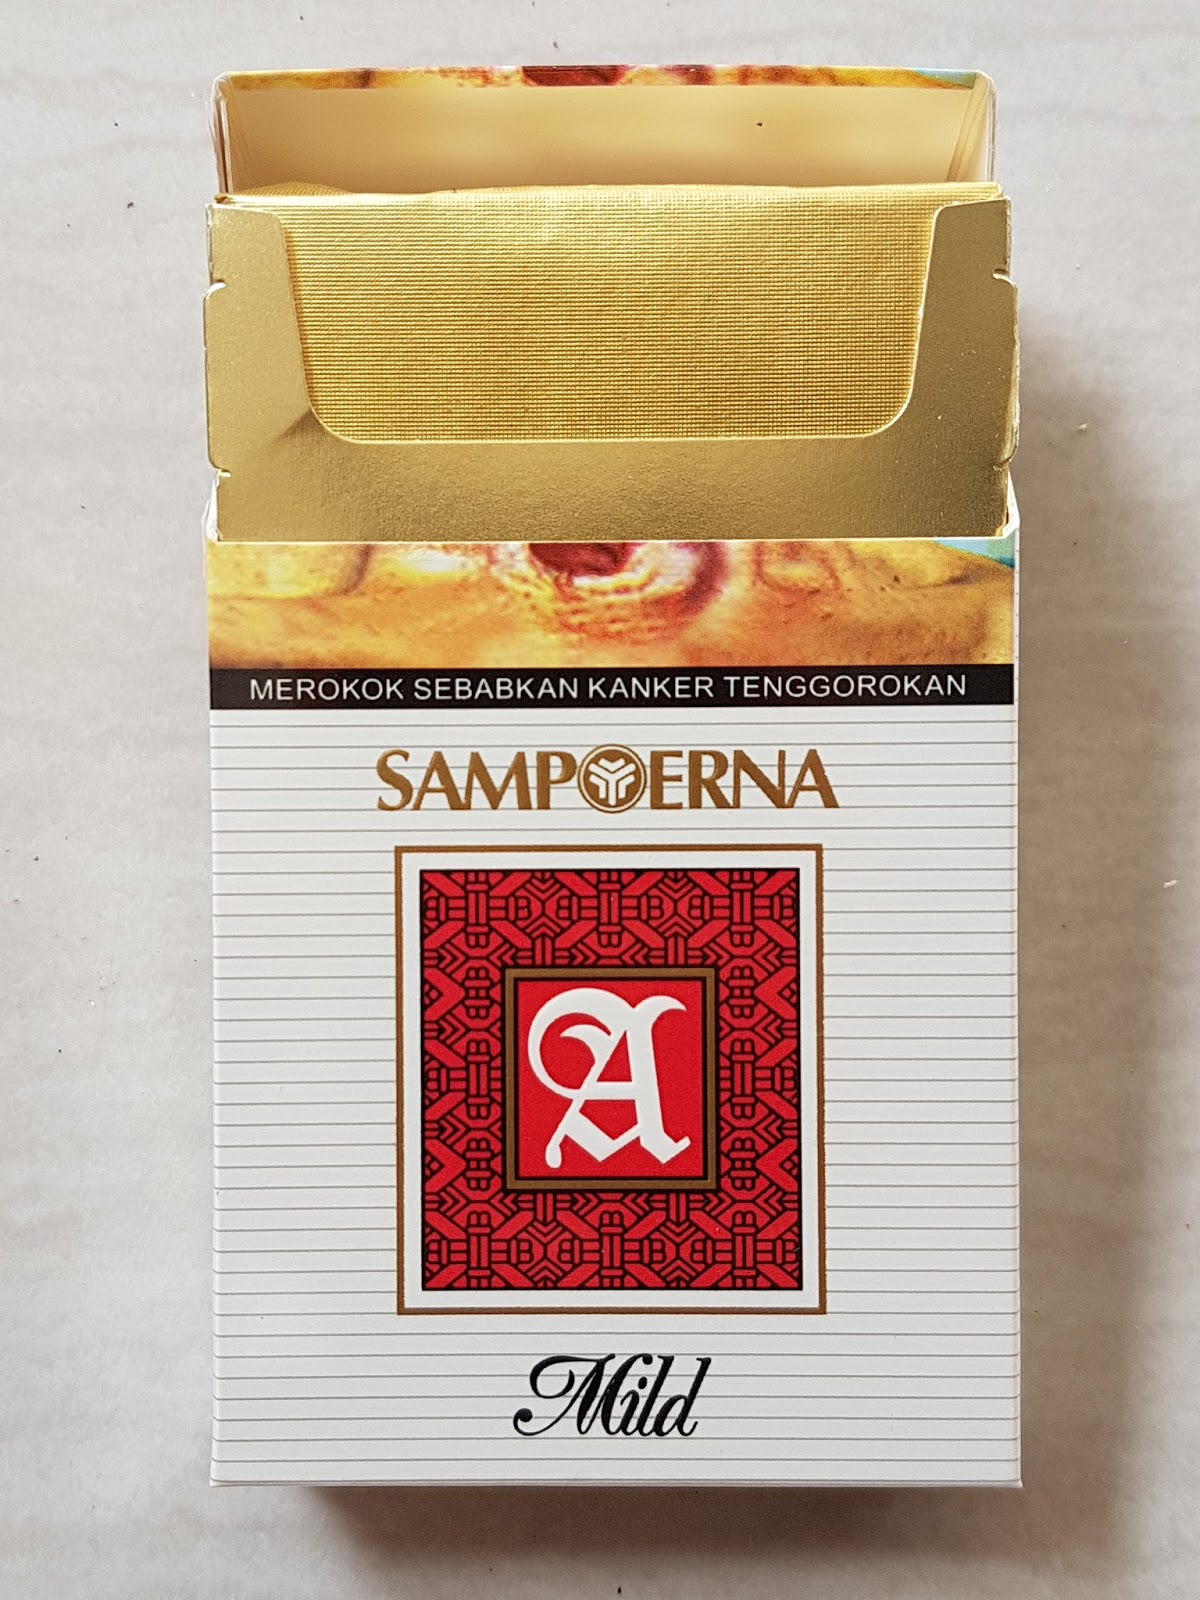A Mild: (216, 716, 1011, 1479)
